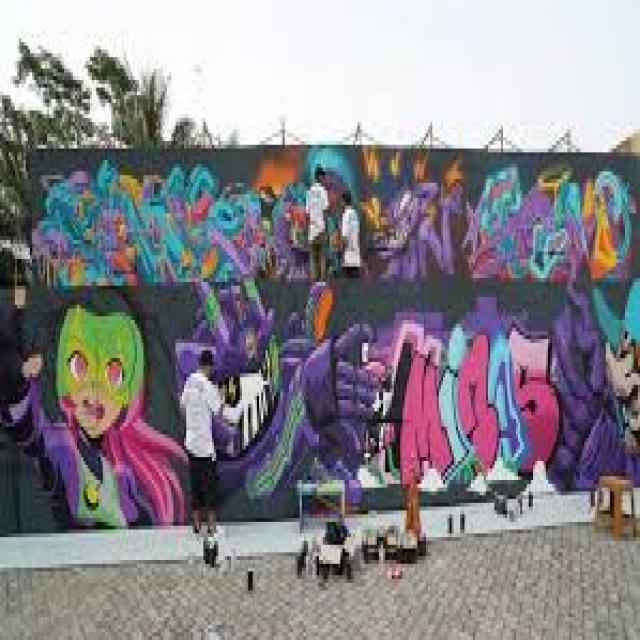-: (12, 294, 640, 524), (40, 146, 632, 286)
